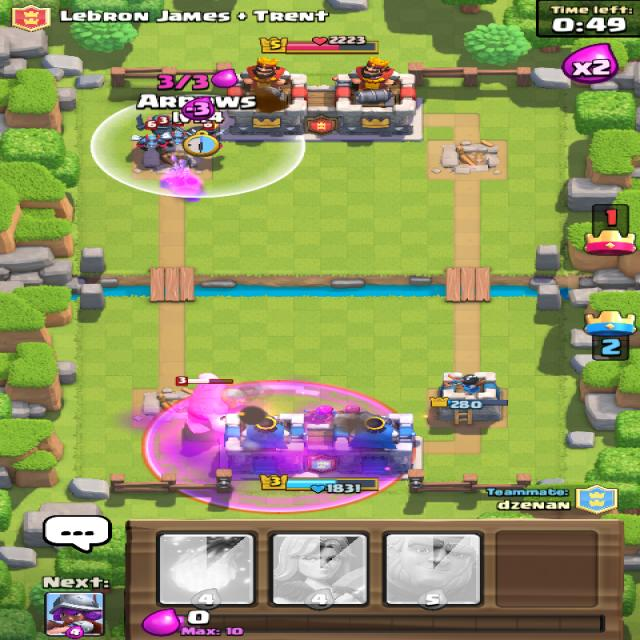Enemy-Giant: (170, 370, 247, 436)
Enemy-MiniPEKKA: (134, 112, 182, 134)
Enemy-Minion: (128, 120, 168, 152), (187, 121, 224, 147), (163, 118, 188, 145)
Enemy-Rage: (139, 378, 412, 514)
Player-Archer: (300, 404, 335, 421), (331, 404, 361, 414)
